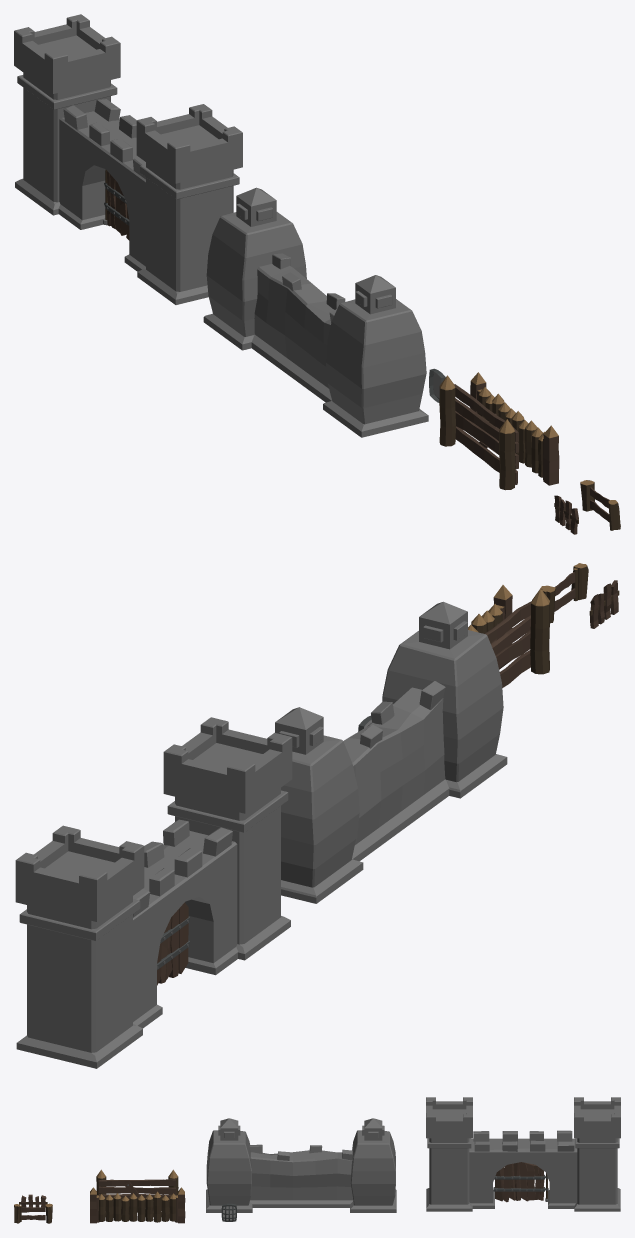
Rendered from Fences.fbx.
3 views of the same model, one above another, from view 1: azimuth 30°, elevation 25°; view 2: azimuth 150°, elevation 25°; view 3: azimuth 270°, elevation 25° (orthographic). The views are drawn at different scales.
Parts seen in each view (by area): view 1: Tower (×2), Tower2, Gate_Body, Tower1, Wall, Planks (×2), Left_Gate, Cone_2, Cone, Left_Big_Pole; view 2: Tower (×2), Tower2, Gate_Body, Tower1, Wall, Planks (×2), Cone, Level_1_Fence1; view 3: Tower (×2), Wall, Gate_Body, Tower2, Tower1, Planks (×2), Right_Gate, Left_Gate, Level_1_Fence1, Right_Big_Pole, Left_Big_Pole, Window (+2 smaller).
Boxes of the visible parts, x1,y1,x2,y2 form: Tower (×2): [14, 14, 428, 437]; Tower2: [136, 104, 242, 304]; Gate_Body: [58, 99, 145, 271]; Tower1: [203, 187, 306, 350]; Wall: [251, 253, 345, 402]; Planks (×2): [106, 171, 518, 484]; Left_Gate: [512, 411, 544, 479]; Cone_2: [439, 375, 455, 446]; Cone: [499, 419, 515, 490]; Left_Big_Pole: [543, 425, 559, 485]; Tower (×2): [15, 601, 507, 1068]; Tower2: [163, 717, 292, 960]; Gate_Body: [133, 819, 237, 1028]; Tower1: [275, 707, 363, 903]; Wall: [343, 681, 449, 861]; Planks (×2): [157, 601, 531, 985]; Cone: [530, 588, 549, 674]; Level_1_Fence1: [589, 580, 619, 628]; Tower (×2): [206, 1097, 620, 1212]; Wall: [249, 1144, 353, 1207]; Gate_Body: [469, 1130, 577, 1208]; Tower2: [426, 1097, 472, 1211]; Tower1: [350, 1118, 396, 1212]; Planks (×2): [98, 1162, 544, 1212]; Right_Gate: [137, 1191, 178, 1222]; Left_Gate: [96, 1193, 137, 1222]; Level_1_Fence1: [19, 1194, 47, 1207]; Right_Big_Pole: [178, 1187, 185, 1223]; Left_Big_Pole: [90, 1187, 96, 1223]; Window: [221, 1203, 236, 1221].
Bounding box in the file's own units: 18.76 × 26.2 × 152.
